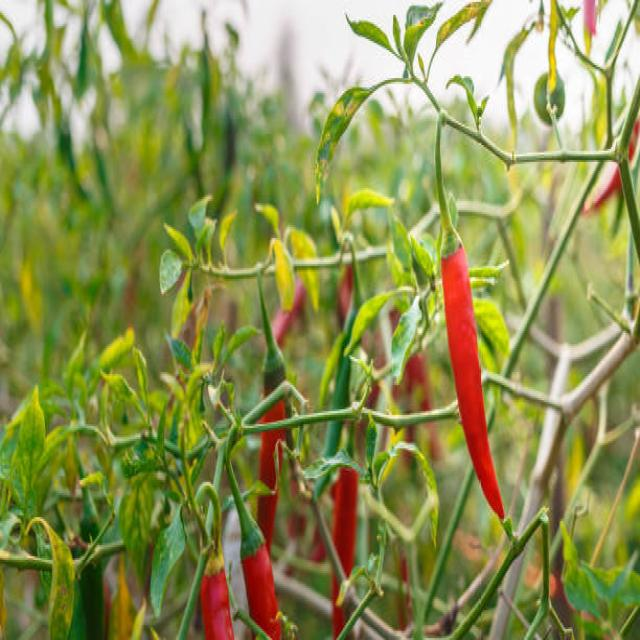Ripe: (441, 245, 505, 519), (242, 546, 281, 640), (258, 429, 283, 555), (200, 568, 234, 639)
